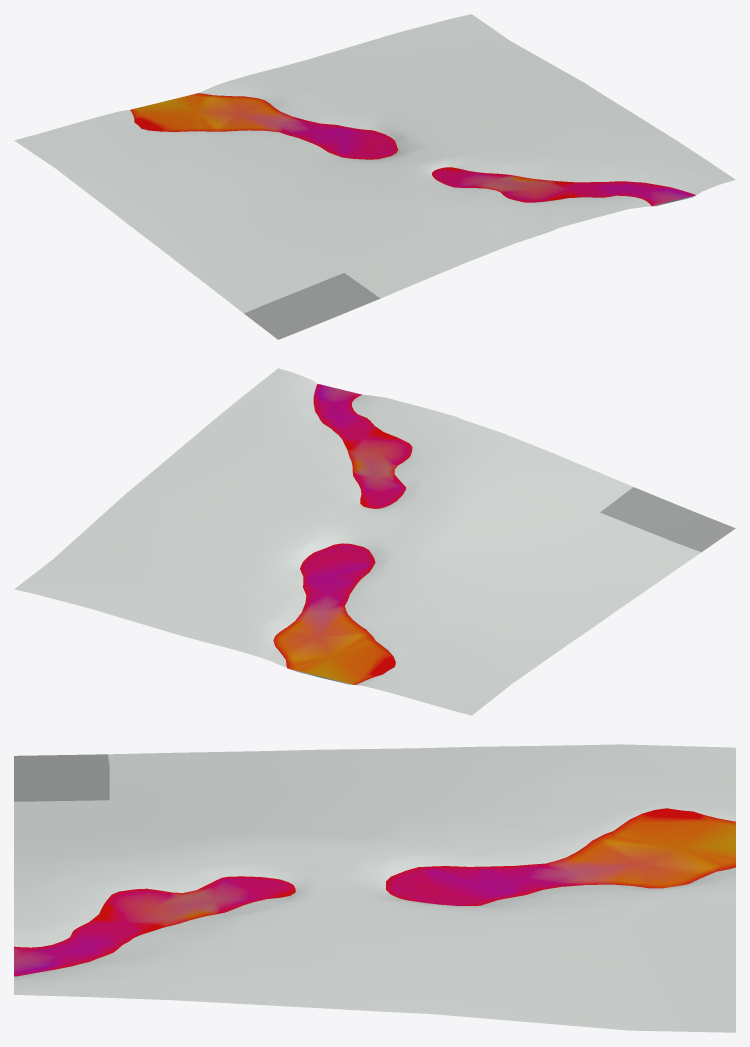
3 renders of one model, top to bottom at view 1: azimuth 30°, elevation 25°; view 2: azimuth 150°, elevation 25°; view 3: azimuth 270°, elevation 25°, orthographic. The views are drawn at different scales.
Parts seen in each view (by area): view 1: G:\FFXIV-MapTools\exports\r2f1\bg\ex1\01_roc_r2\fld\r2f1\bgp (×3); view 2: G:\FFXIV-MapTools\exports\r2f1\bg\ex1\01_roc_r2\fld\r2f1\bgp (×3); view 3: G:\FFXIV-MapTools\exports\r2f1\bg\ex1\01_roc_r2\fld\r2f1\bgp (×3).
Part boxes in pixels (<box>): G:\FFXIV-MapTools\exports\r2f1\bg\ex1\01_roc_r2\fld\r2f1\bgp (×3): <box>14,14,735,339</box>; G:\FFXIV-MapTools\exports\r2f1\bg\ex1\01_roc_r2\fld\r2f1\bgp (×3): <box>14,368,735,715</box>; G:\FFXIV-MapTools\exports\r2f1\bg\ex1\01_roc_r2\fld\r2f1\bgp (×3): <box>14,744,735,1032</box>.
Size of the model in its own units: 128 by 12.94 by 128.
